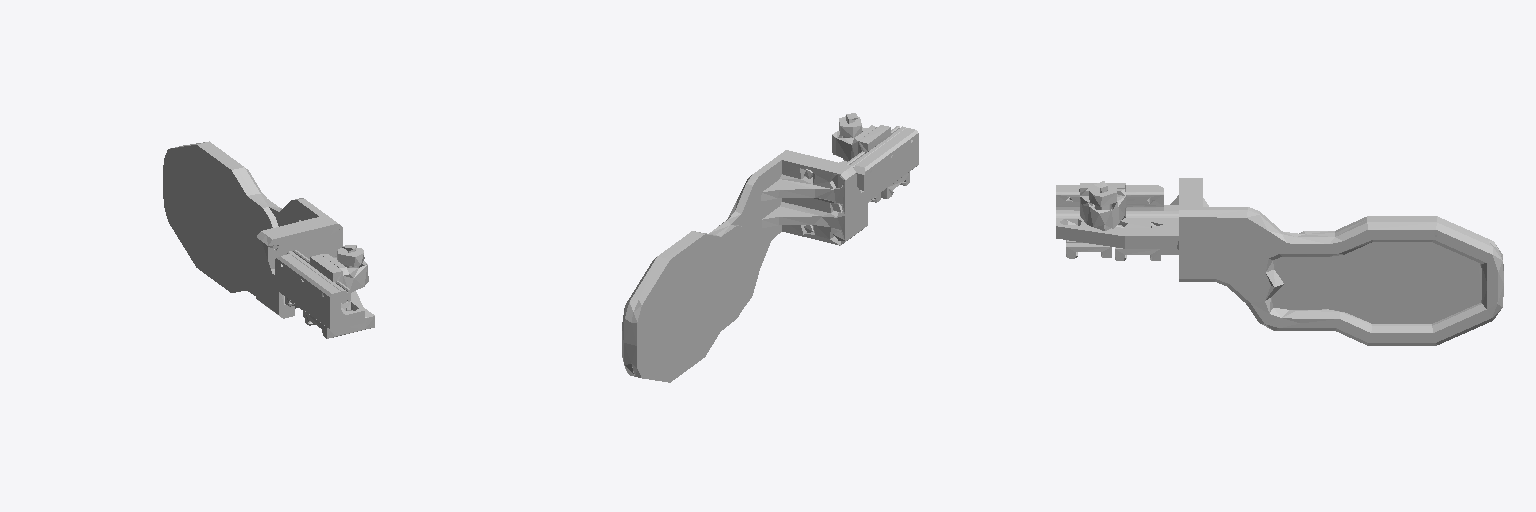
File: gripper_finger_link.obj
The picture shows the model from 3 angles: view 1: azimuth 30°, elevation 25°; view 2: azimuth 150°, elevation 25°; view 3: azimuth 270°, elevation 25°; orthographic projection.
Parts seen in each view (by area): view 1: <STL_BINARY>; view 2: <STL_BINARY>; view 3: <STL_BINARY>.
Boxes of the visible parts, x1,y1,x2,y2 form: <STL_BINARY>: [163, 141, 374, 338]; <STL_BINARY>: [622, 113, 918, 382]; <STL_BINARY>: [1056, 178, 1503, 345].
Bounding box in the file's own units: 0.0327 × 0.06 × 0.165.